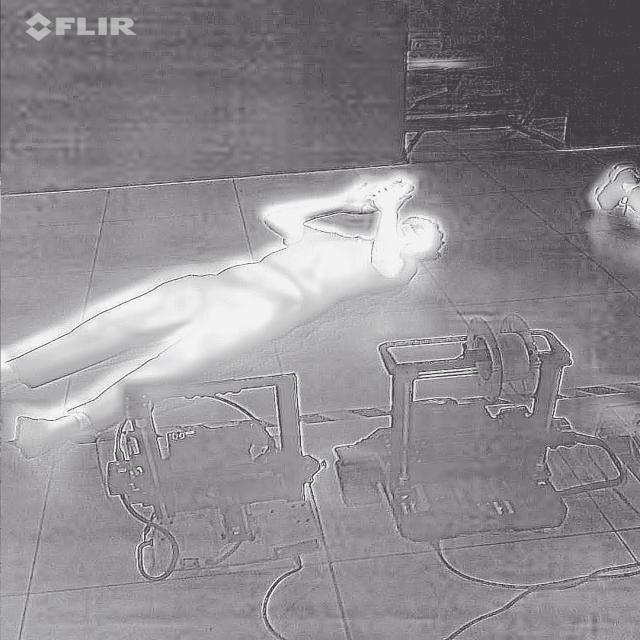Victim: (1, 164, 451, 470)
